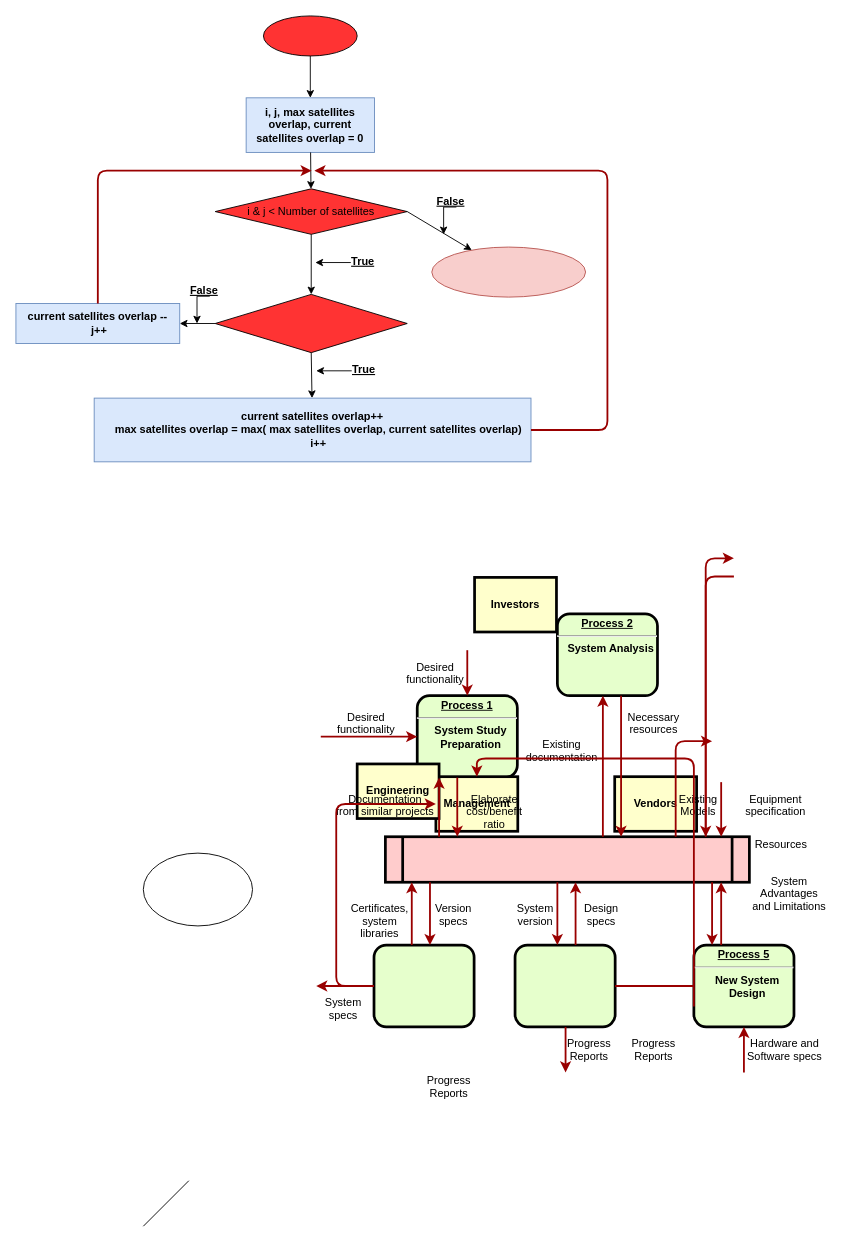
The diagram is 842 pixels wide and 1243 high, and some of its shapes have lost their labels. The centre of each missing label's shape, as x and y in pixels:
max satellites overlap: pixel 508 271
ON-DEMAND SYSTEM DEVELOPMENT: pixel 567 859
Process 6 New System Construction: pixel 423 985
Process 7 New System Startup and Testing: pixel 564 985
Start: pixel 310 35
start_time[ i ] < end_time[ j ]: pixel 310 323
